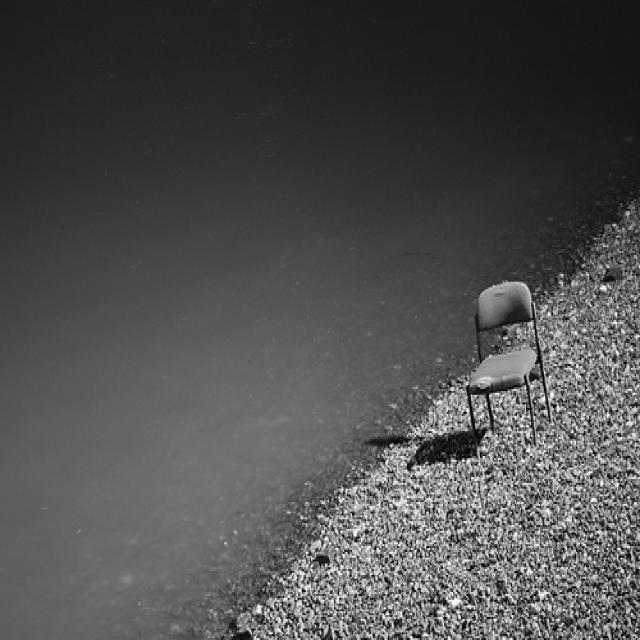chair: (464, 282, 554, 458)
